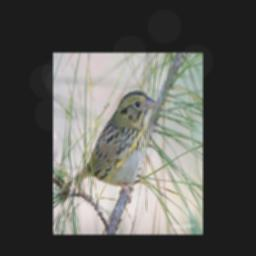Sparrow: (65, 88, 158, 203)
